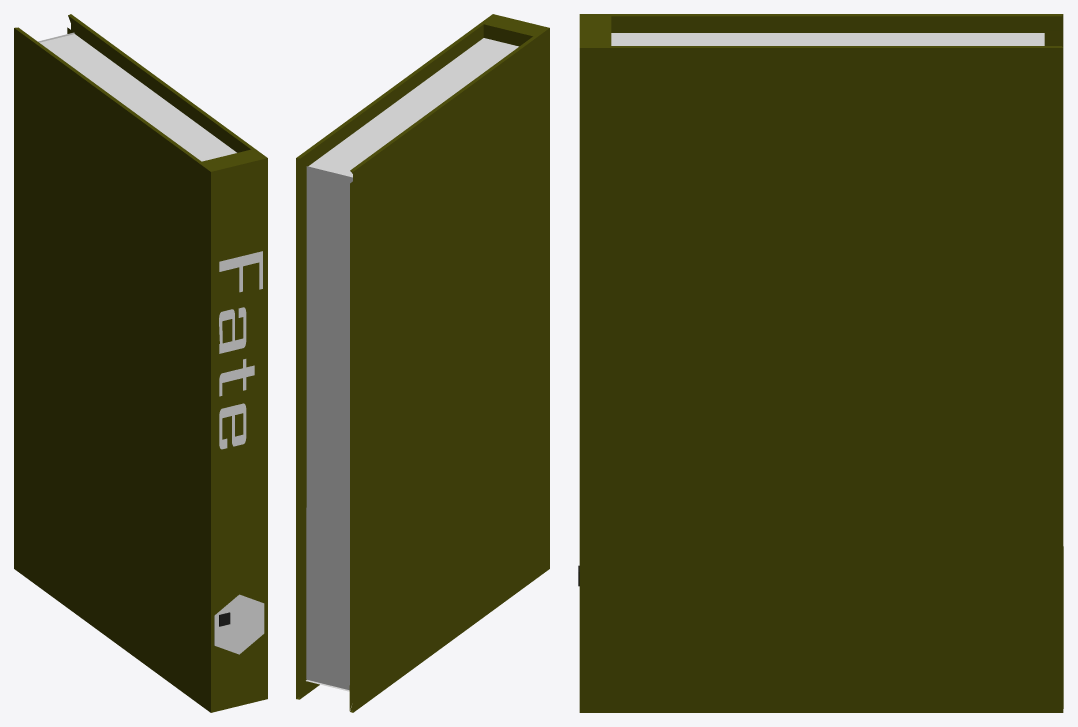
The model's file is Book_Fate.fbx.
The picture shows the model from 3 angles, left to right: view 1: azimuth 30°, elevation 25°; view 2: azimuth 150°, elevation 25°; view 3: azimuth 270°, elevation 25°; orthographic projection. The views are drawn at different scales.
Parts seen in each view (by area): view 1: Book, Text, Cylinder; view 2: Book; view 3: Book.
Part boxes in pixels (left/top/right/bottom): Book: left=14, top=14, right=267, bottom=712; Text: left=219, top=251, right=262, bottom=449; Cylinder: left=214, top=594, right=264, bottom=654; Book: left=296, top=14, right=549, bottom=712; Book: left=579, top=14, right=1063, bottom=712.
Bounding box in the file's own units: 6.67 × 60.59 × 40.09.
